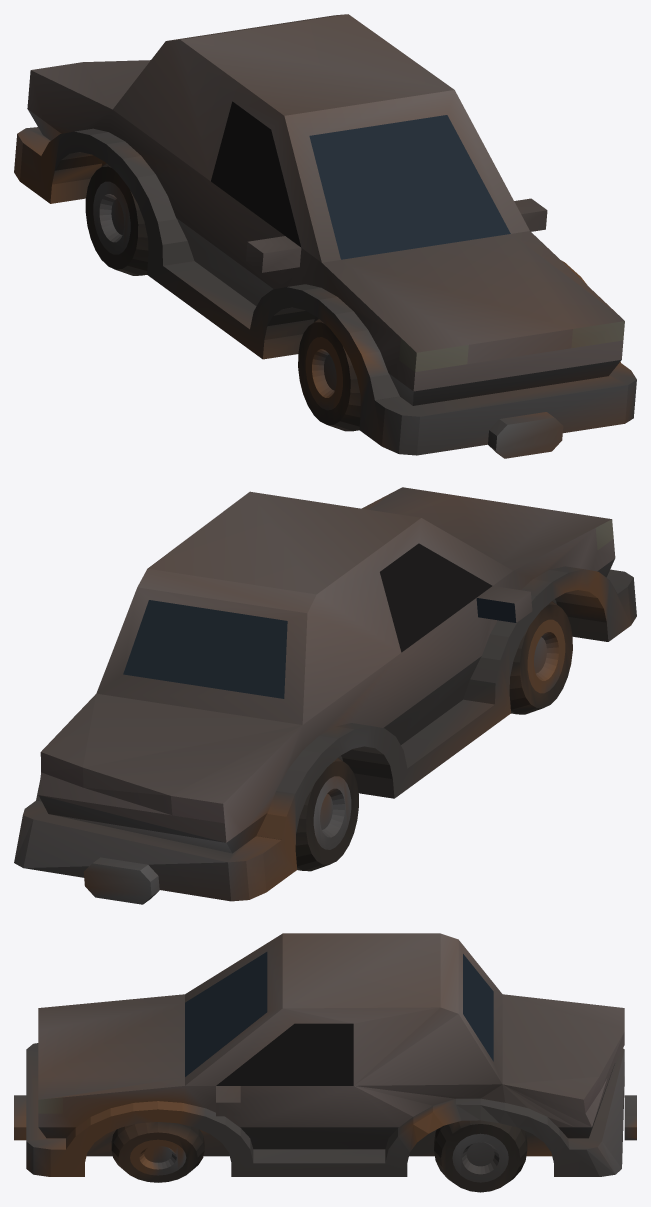
File: sedan_wreck.glb
3 views of the same model, one above another, from view 1: azimuth 30°, elevation 25°; view 2: azimuth 150°, elevation 25°; view 3: azimuth 270°, elevation 25° (orthographic). The views are drawn at different scales.
Visible parts, largest first — view 1: sedan_wreck; view 2: sedan_wreck; view 3: sedan_wreck.
Part boxes in pixels (box(x1,y1,x2,y2)): sedan_wreck: box(14, 14, 636, 458); sedan_wreck: box(14, 487, 636, 904); sedan_wreck: box(14, 933, 636, 1192).
Bounding box in the file's own units: 1.8 × 1.58 × 4.49.
